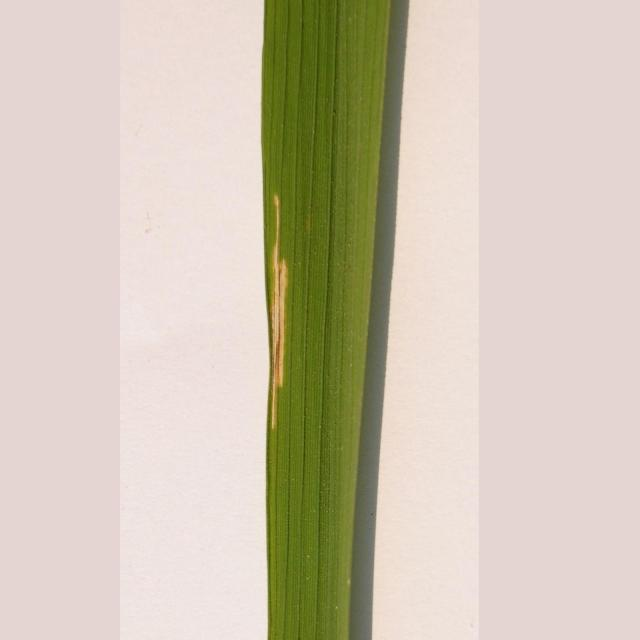Bacterial leaf blight: (264, 184, 294, 440)
